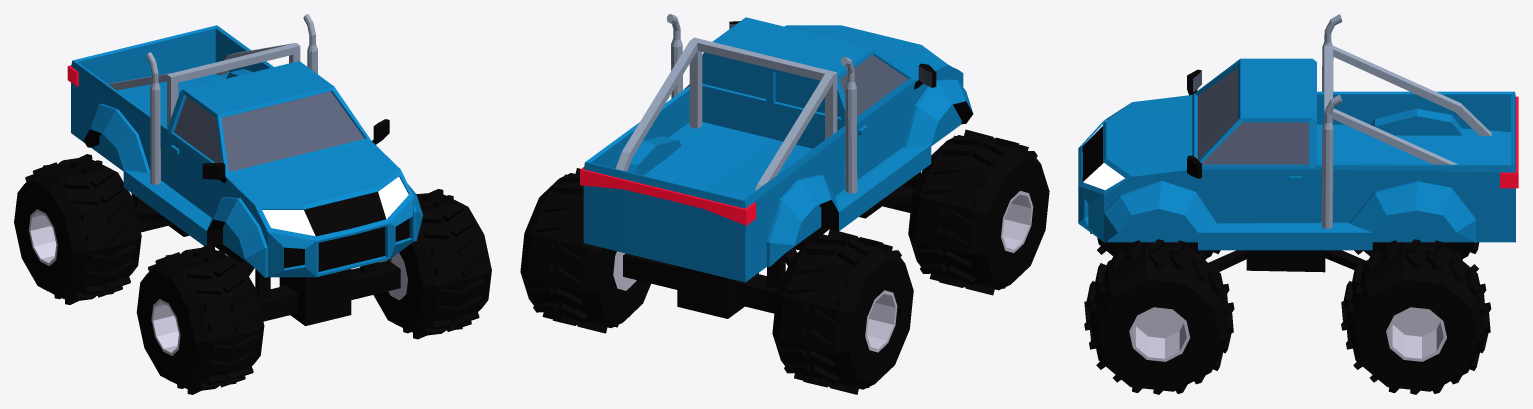
The model's file is monster_truck.glb.
3 renders of one model, left to right at view 1: azimuth 30°, elevation 25°; view 2: azimuth 150°, elevation 25°; view 3: azimuth 270°, elevation 25°, orthographic. The views are drawn at different scales.
Visible parts, largest first — view 1: Monster Truck, Monster Truck wheel front right, Monster Truck wheel rear right, Monster Truck wheel front left; view 2: Monster Truck, Monster Truck wheel rear right, Monster Truck wheel front right, Monster Truck wheel rear left; view 3: Monster Truck, Monster Truck wheel rear left, Monster Truck wheel front left, Monster Truck wheel rear right, Monster Truck wheel front right.
Boxes of the visible parts, x1,y1,x2,y2 form: Monster Truck: [67, 14, 423, 325]; Monster Truck wheel front right: [136, 244, 264, 394]; Monster Truck wheel rear right: [14, 154, 141, 304]; Monster Truck wheel front left: [373, 189, 491, 339]; Monster Truck: [580, 14, 973, 318]; Monster Truck wheel rear right: [772, 229, 913, 394]; Monster Truck wheel front right: [908, 129, 1049, 295]; Monster Truck wheel rear left: [520, 168, 650, 333]; Monster Truck: [1078, 14, 1518, 272]; Monster Truck wheel rear left: [1341, 239, 1491, 394]; Monster Truck wheel front left: [1084, 239, 1234, 394]; Monster Truck wheel rear right: [1354, 242, 1479, 260]; Monster Truck wheel front right: [1090, 232, 1220, 260].
Size of the model in its own units: 4.47 by 3.73 by 5.49.
